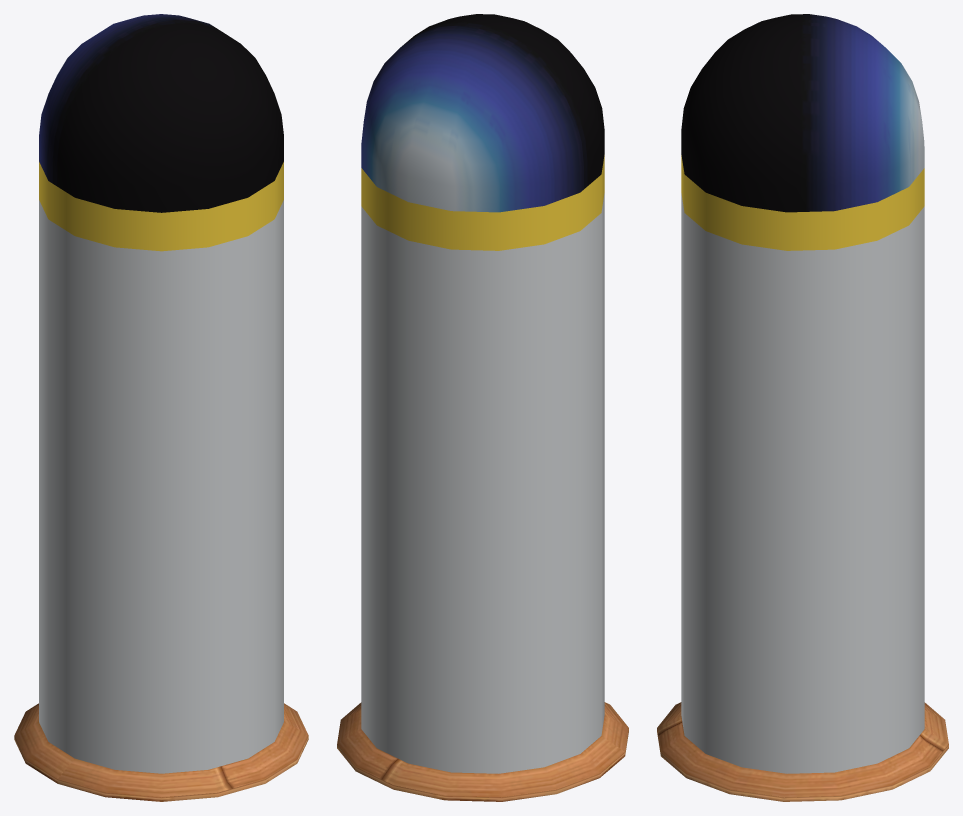
3 views of the same model, side by side, from view 1: azimuth 30°, elevation 25°; view 2: azimuth 150°, elevation 25°; view 3: azimuth 270°, elevation 25° (orthographic).
Parts seen in each view (by area): view 1: Joint_0_Object_2, Joint_0_Object_1, Joint_0_Object_0; view 2: Joint_0_Object_2, Joint_0_Object_1, Joint_0_Object_0; view 3: Joint_0_Object_2, Joint_0_Object_1, Joint_0_Object_0.
Part boxes in pixels (x1,y1,x2,y2): Joint_0_Object_2: (39, 14, 283, 773); Joint_0_Object_1: (14, 703, 308, 801); Joint_0_Object_0: (39, 162, 283, 251); Joint_0_Object_2: (361, 14, 604, 773); Joint_0_Object_1: (337, 702, 628, 801); Joint_0_Object_0: (361, 155, 604, 250); Joint_0_Object_2: (681, 14, 924, 773); Joint_0_Object_1: (657, 702, 948, 801); Joint_0_Object_0: (681, 155, 924, 250).
Size of the model in its own units: 296 by 800 by 296.
